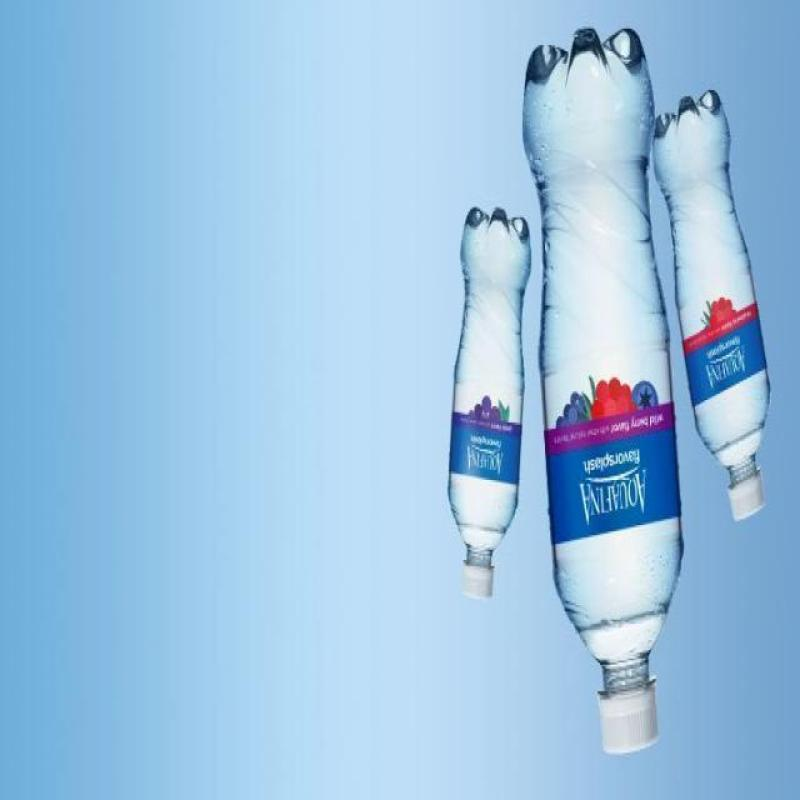botella: (522, 26, 684, 754), (652, 90, 770, 522), (448, 206, 532, 600)
